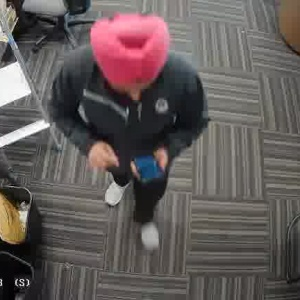person: (67, 22, 200, 249)
